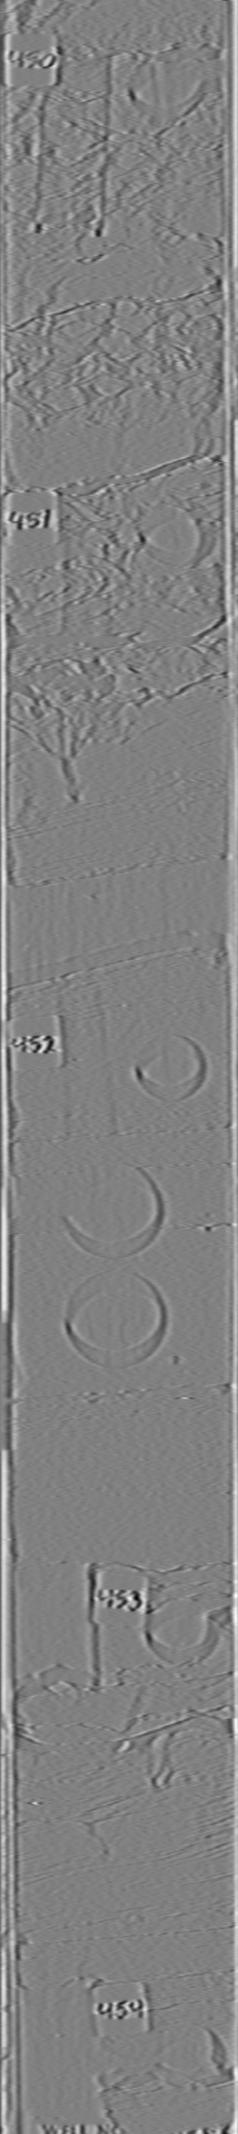hplug: (135, 490, 222, 570), (124, 46, 211, 127), (139, 1590, 226, 1670), (131, 1026, 215, 1106), (146, 2020, 228, 2097)
scal: (58, 1264, 171, 1373), (58, 1157, 169, 1258)
vplug: (29, 37, 117, 240), (14, 1973, 117, 2134), (44, 974, 126, 1139), (19, 1556, 107, 1693), (53, 493, 126, 646)
